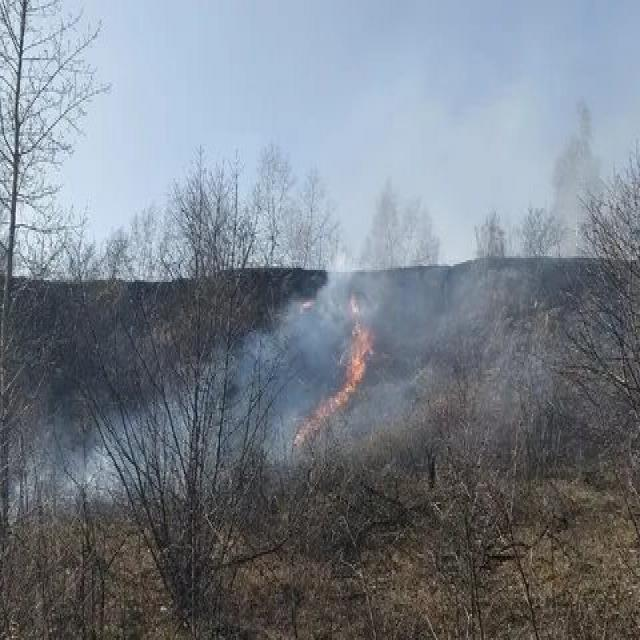Fire: (293, 268, 397, 470)
Smoke: (79, 296, 307, 510)
